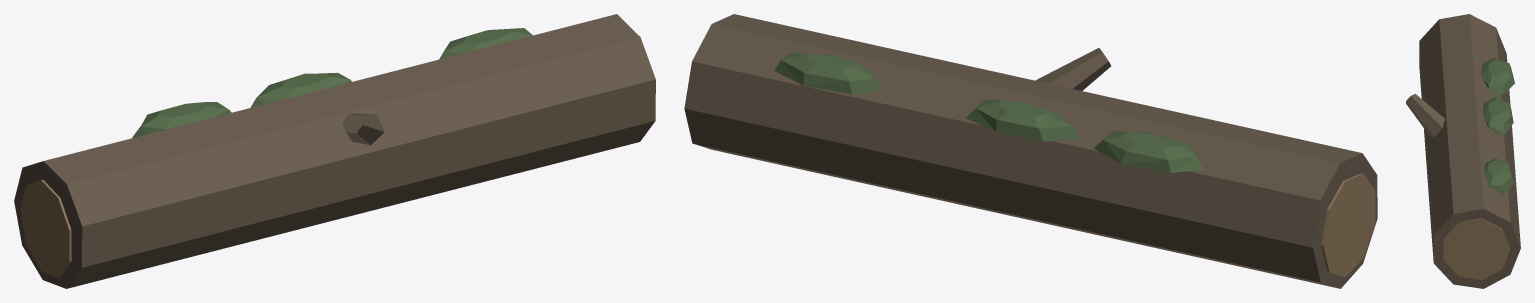
The model's file is Decor_FallenLog.fbx.
3 views of the same model, side by side, from view 1: azimuth 30°, elevation 25°; view 2: azimuth 150°, elevation 25°; view 3: azimuth 270°, elevation 25° (orthographic). The views are drawn at different scales.
Visible parts, largest first — view 1: Decor_FallenLog; view 2: Decor_FallenLog; view 3: Decor_FallenLog.
Part boxes in pixels (left/top/right/bottom): Decor_FallenLog: left=14, top=14, right=655, bottom=288; Decor_FallenLog: left=684, top=14, right=1377, bottom=288; Decor_FallenLog: left=1406, top=14, right=1520, bottom=288.
Bounding box in the file's own units: 3.89 × 0.8395 × 0.9702.
